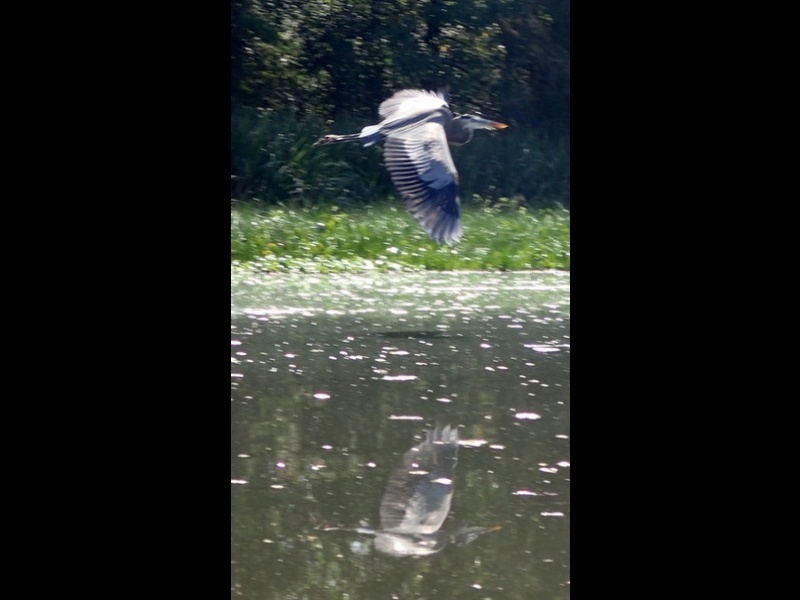heron: (312, 87, 509, 254)
